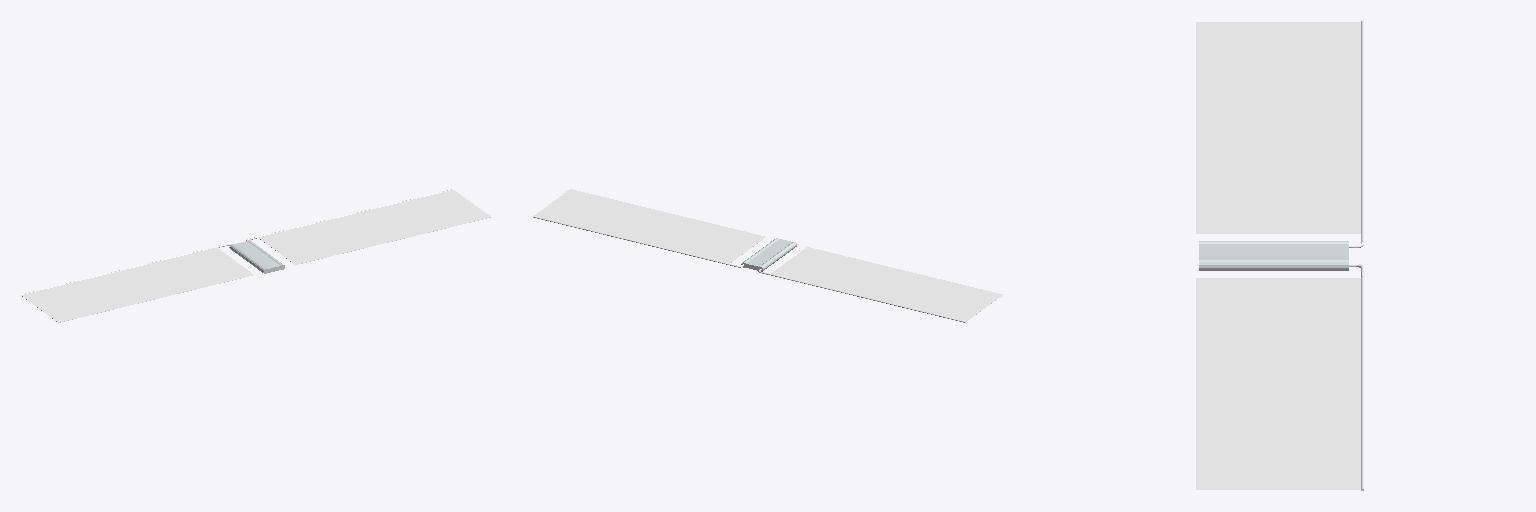
URDF robot description (URDF_LargeWings):
<?xml version="1.0" encoding="utf-8"?>
<!-- This URDF was automatically created by SolidWorks to URDF Exporter! Originally created by [author] ([email redacted]) 
     Commit Version: 1.6.0-4-g7f85cfe  Build Version: 1.6.7995.38578
     For more information, please see http://wiki.ros.org/sw_urdf_exporter -->
<robot
  name="URDF_LargeWings">
  <link
    name="base_link">
    <inertial>
      <origin
        xyz="2.96269786051038E-18 -0.0225 1.73852292297301E-18"
        rpy="0 0 0" />
      <mass
        value="0.00635649989496079" />
      <inertia
        ixx="1.07828542773576E-06"
        ixy="6.91754242672403E-24"
        ixz="-2.8657332950023E-25"
        iyy="1.53486567387336E-07"
        iyz="6.48370505339519E-23"
        izz="1.22051985420084E-06" />
    </inertial>
    <visual>
      <origin
        xyz="0 0 0"
        rpy="0 0 0" />
      <geometry>
        <mesh
          filename="package://URDF_LargeWings/meshes/base_link.obj" />
      </geometry>
      <material
        name="">
        <color
          rgba="0.898039215686275 0.917647058823529 0.929411764705882 1" />
      </material>
    </visual>
    <collision>
      <origin
        xyz="0 0 0"
        rpy="0 0 0" />
      <geometry>
        <mesh
          filename="package://URDF_LargeWings/meshes/base_link.obj" />
      </geometry>
    </collision>
  </link>
  <link
    name="RW_Flap">
    <inertial>
      <origin
        xyz="0.00335273645464822 0.00332401287529993 -9.5470568989951E-21"
        rpy="0 0 0" />
      <mass
        value="1.17693121573423E-05" />
      <inertia
        ixx="1.69338330378992E-11"
        ixy="-2.61983490684792E-11"
        ixz="1.63242107039253E-28"
        iyy="1.04518429929419E-10"
        iyz="-5.79055068765945E-29"
        izz="1.1967215450352E-10" />
    </inertial>
    <visual>
      <origin
        xyz="0 0 0"
        rpy="0 0 0" />
      <geometry>
        <mesh
          filename="package://URDF_LargeWings/meshes/RW_Flap.obj" />
      </geometry>
      <material
        name="">
        <color
          rgba="1 1 1 1" />
      </material>
    </visual>
    <collision>
      <origin
        xyz="0 0 0"
        rpy="0 0 0" />
      <geometry>
        <mesh
          filename="package://URDF_LargeWings/meshes/RW_Flap.obj" />
      </geometry>
    </collision>
  </link>
  <joint
    name="RW_J_Flap"
    type="revolute">
    <origin
      xyz="0.00666143782776616 0 0"
      rpy="0 0 0" />
    <parent
      link="base_link" />
    <child
      link="RW_Flap" />
    <axis
      xyz="0 -1 0" />
    <limit
      lower="0"
      upper="0"
      effort="0"
      velocity="0" />
  </joint>
  <link
    name="RW_Pitch">
    <inertial>
      <origin
        xyz="0.075 -0.0217919871250799 3.00461767003954E-20"
        rpy="0 0 0" />
      <mass
        value="0.000877528688193489" />
      <inertia
        ixx="2.20784802051055E-07"
        ixy="-1.94452067435317E-22"
        ixz="3.28740984197998E-26"
        iyy="1.64537443187689E-06"
        iyz="-3.13090473832643E-24"
        izz="1.86614295089975E-06" />
    </inertial>
    <visual>
      <origin
        xyz="0 0 0"
        rpy="0 0 0" />
      <geometry>
        <mesh
          filename="package://URDF_LargeWings/meshes/RW_Pitch.obj" />
      </geometry>
      <material
        name="">
        <color
          rgba="1 1 1 1" />
      </material>
    </visual>
    <collision>
      <origin
        xyz="0 0 0"
        rpy="0 0 0" />
      <geometry>
        <mesh
          filename="package://URDF_LargeWings/meshes/RW_Pitch.obj" />
      </geometry>
    </collision>
  </link>
  <joint
    name="RW_J_Pitch"
    type="revolute">
    <origin
      xyz="0.00899999999999999 0.004 0"
      rpy="0 0 0" />
    <parent
      link="RW_Flap" />
    <child
      link="RW_Pitch" />
    <axis
      xyz="-1 0 0" />
    <limit
      lower="0"
      upper="0"
      effort="0"
      velocity="0" />
  </joint>
  <link
    name="LW_Flap">
    <inertial>
      <origin
        xyz="-0.00335273645464822 0.00332401287529993 9.5470568989951E-21"
        rpy="0 0 0" />
      <mass
        value="1.17693121573423E-05" />
      <inertia
        ixx="1.69338330378992E-11"
        ixy="2.61983490684792E-11"
        ixz="1.63242107039253E-28"
        iyy="1.04518429929419E-10"
        iyz="5.79055068765945E-29"
        izz="1.1967215450352E-10" />
    </inertial>
    <visual>
      <origin
        xyz="0 0 0"
        rpy="0 0 0" />
      <geometry>
        <mesh
          filename="package://URDF_LargeWings/meshes/LW_Flap.obj" />
      </geometry>
      <material
        name="">
        <color
          rgba="1 1 1 1" />
      </material>
    </visual>
    <collision>
      <origin
        xyz="0 0 0"
        rpy="0 0 0" />
      <geometry>
        <mesh
          filename="package://URDF_LargeWings/meshes/LW_Flap.obj" />
      </geometry>
    </collision>
  </link>
  <joint
    name="LW_J_Flap"
    type="revolute">
    <origin
      xyz="-0.00666143782776616 0 0"
      rpy="0 0 0" />
    <parent
      link="base_link" />
    <child
      link="LW_Flap" />
    <axis
      xyz="0 -1 0" />
    <limit
      lower="0"
      upper="0"
      effort="0"
      velocity="0" />
  </joint>
  <link
    name="LW_Pitch">
    <inertial>
      <origin
        xyz="-0.075 -0.0217919871250799 0"
        rpy="0 0 0" />
      <mass
        value="0.000877528688193489" />
      <inertia
        ixx="2.20784802051055E-07"
        ixy="-2.01043662941599E-22"
        ixz="3.28740984197998E-26"
        iyy="1.64537443187689E-06"
        iyz="-3.20889683582182E-24"
        izz="1.86614295089975E-06" />
    </inertial>
    <visual>
      <origin
        xyz="0 0 0"
        rpy="0 0 0" />
      <geometry>
        <mesh
          filename="package://URDF_LargeWings/meshes/LW_Pitch.obj" />
      </geometry>
      <material
        name="">
        <color
          rgba="1 1 1 1" />
      </material>
    </visual>
    <collision>
      <origin
        xyz="0 0 0"
        rpy="0 0 0" />
      <geometry>
        <mesh
          filename="package://URDF_LargeWings/meshes/LW_Pitch.obj" />
      </geometry>
    </collision>
  </link>
  <joint
    name="LW_J_Pitch"
    type="revolute">
    <origin
      xyz="-0.00899999999999999 0.004 0"
      rpy="0 0 0" />
    <parent
      link="LW_Flap" />
    <child
      link="LW_Pitch" />
    <axis
      xyz="1 0 0" />
    <limit
      lower="0"
      upper="0"
      effort="0"
      velocity="0" />
  </joint>
  <transmission type="SimpleTransmission" name="my_transmission">
    <actuator name="LW_J_Pitch_Actuator"/>
    <joint name="LW_J_Pitch"/>
    <mechanicalReduction>1</mechanicalReduction>
  </transmission>
</robot>

--- Render facts (derived) ---
3 views of the same robot in one strip: view 1: azimuth 30°, elevation 25°; view 2: azimuth 150°, elevation 25°; view 3: azimuth 270°, elevation 25° (orthographic).
Model URDF_LargeWings with 5 links and 4 joints (4 revolute), rooted at base_link, posed all joints at 0.
Links seen in each view (by area): view 1: RW_Pitch, LW_Pitch, base_link; view 2: LW_Pitch, RW_Pitch, base_link; view 3: RW_Pitch, LW_Pitch, base_link.
Link boxes in pixels (box(x1,y1,x2,y2)): RW_Pitch: box(258, 189, 490, 264); LW_Pitch: box(21, 247, 253, 322); base_link: box(229, 240, 284, 273); LW_Pitch: box(769, 247, 1002, 322); RW_Pitch: box(533, 189, 765, 264); base_link: box(741, 238, 796, 271); RW_Pitch: box(1196, 277, 1363, 490); LW_Pitch: box(1196, 21, 1363, 233); base_link: box(1199, 241, 1348, 270).
Size in the robot's own frame: 0.3313 by 0.0505 by 0.0039 metres.
5 mesh visuals loaded from 5 distinct referenced files (5 OBJ).